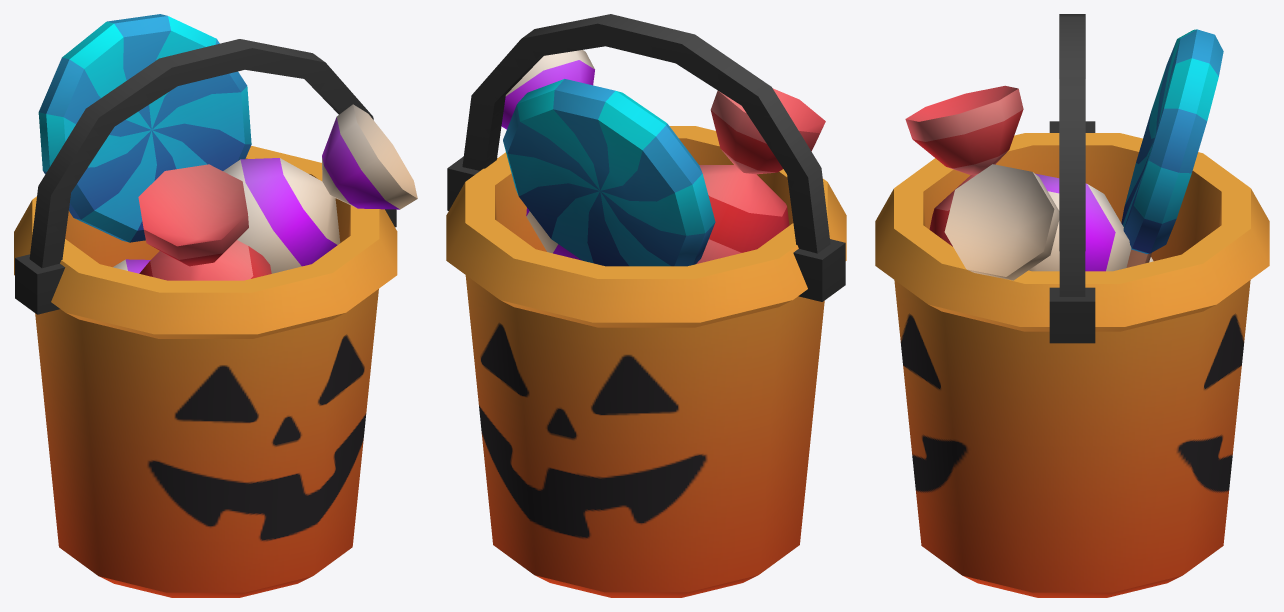
The model's file is candy_bucket_A_decorated.gltf.
3 renders of one model, left to right at view 1: azimuth 30°, elevation 25°; view 2: azimuth 150°, elevation 25°; view 3: azimuth 270°, elevation 25°, orthographic. The views are drawn at different scales.
Visible parts, largest first — view 1: candy_bucket_A_decorated, candy_bucket_A_decorated_handle; view 2: candy_bucket_A_decorated, candy_bucket_A_decorated_handle; view 3: candy_bucket_A_decorated, candy_bucket_A_decorated_handle.
Part boxes in pixels (left/top/right/bottom): candy_bucket_A_decorated: left=14, top=14, right=417, bottom=597; candy_bucket_A_decorated_handle: left=15, top=39, right=396, bottom=314; candy_bucket_A_decorated: left=446, top=50, right=846, bottom=597; candy_bucket_A_decorated_handle: left=447, top=14, right=845, bottom=301; candy_bucket_A_decorated: left=875, top=29, right=1269, bottom=597; candy_bucket_A_decorated_handle: left=1049, top=14, right=1095, bottom=343.
Size of the model in its own units: 0.8966 by 1.17 by 0.8286.
1 material, 1 textured.
